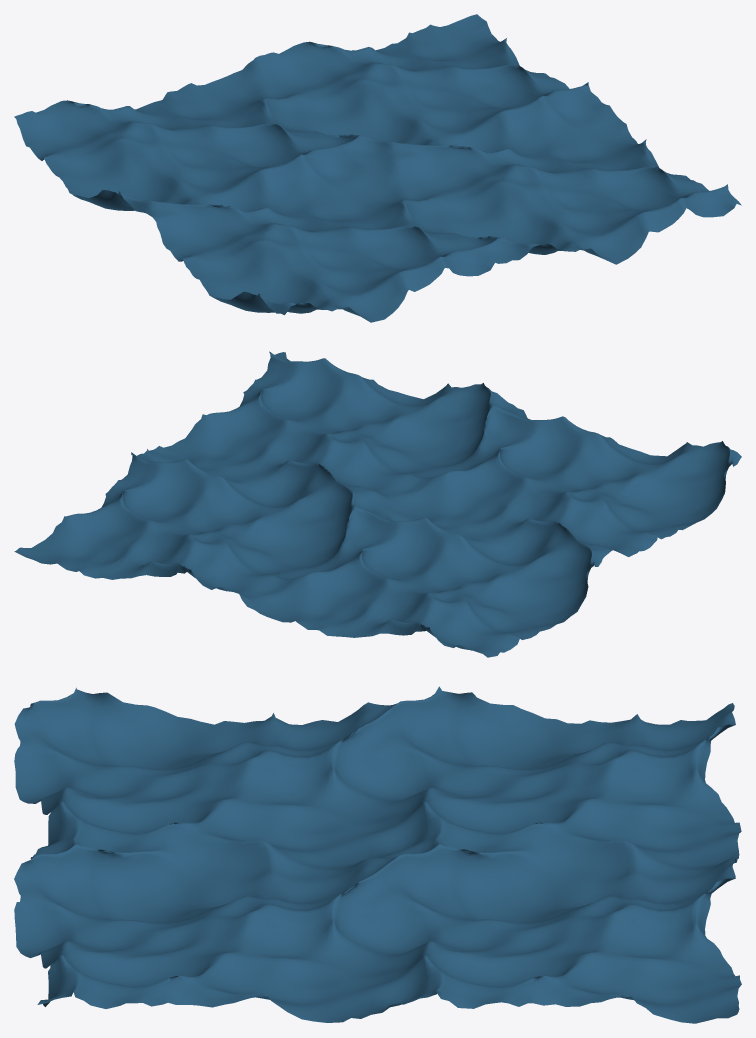
The model's file is water.fbx.
3 views of the same model, one above another, from view 1: azimuth 30°, elevation 25°; view 2: azimuth 150°, elevation 25°; view 3: azimuth 270°, elevation 25° (orthographic). The views are drawn at different scales.
Visible parts, largest first — view 1: Plane__Copy; view 2: Plane__Copy; view 3: Plane__Copy.
Part boxes in pixels (x1,y1,x2,y2): Plane__Copy: (14, 14, 741, 322); Plane__Copy: (14, 351, 741, 657); Plane__Copy: (14, 686, 741, 1023).
Size of the model in its own units: 84689 by 6571 by 83908.
